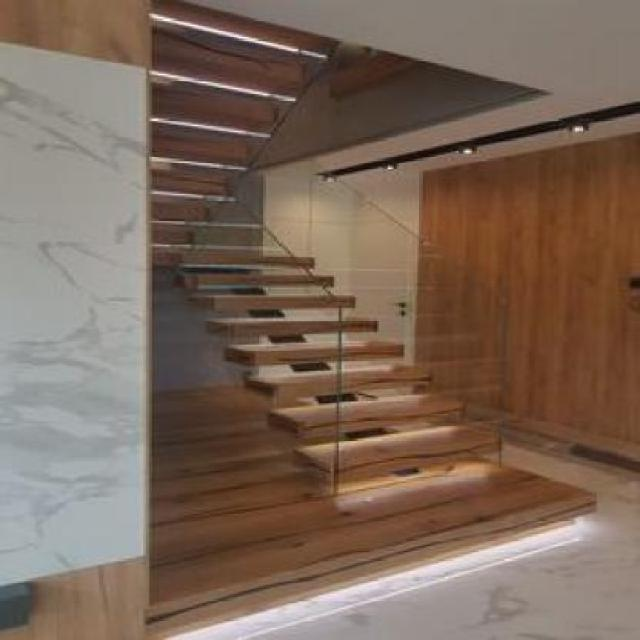stair: (183, 182, 563, 528)
